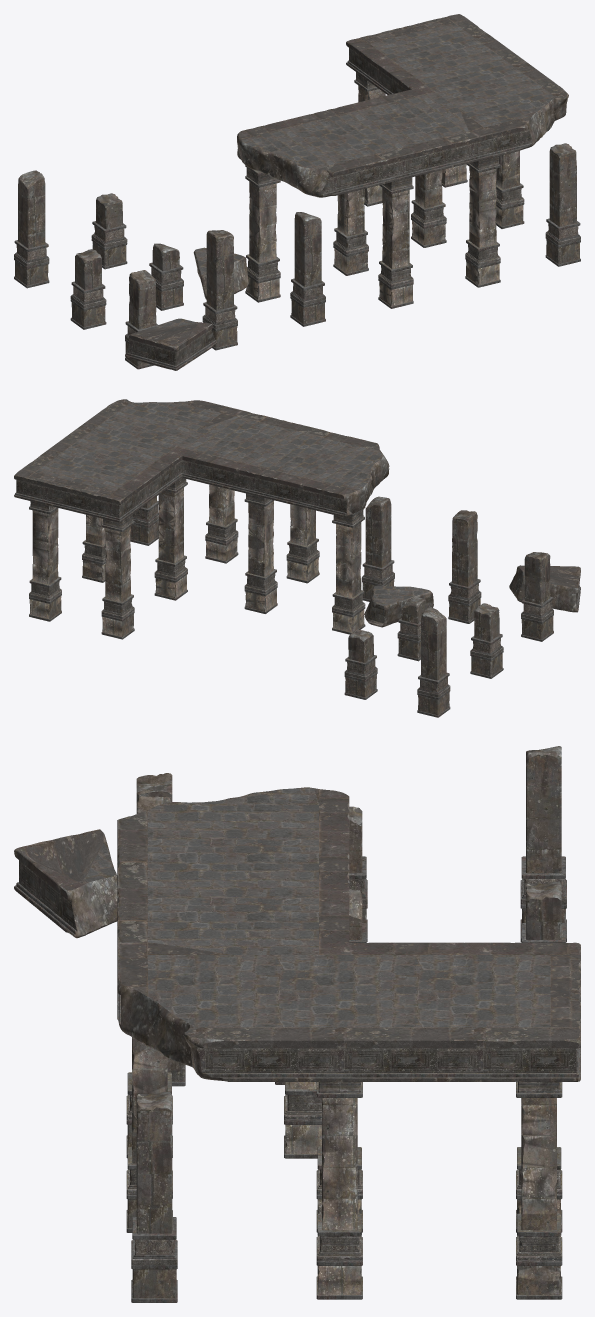
The model's file is cargo_ruin_a.glb.
The picture shows the model from 3 angles, top to bottom: view 1: azimuth 30°, elevation 25°; view 2: azimuth 150°, elevation 25°; view 3: azimuth 270°, elevation 25°; orthographic projection. The views are drawn at different scales.
Visible parts, largest first — view 1: KB3D_SOL_AssemblyRuin_A_Top_A, KB3D_SOL_PropRuinColumn_B.001, KB3D_SOL_PropRuinColumn_A, KB3D_SOL_PropRuinColumn_C, KB3D_SOL_AssemblyRuin_A_Pillar_I, KB3D_SOL_AssemblyRuin_A_Pillar_G, KB3D_SOL_AssemblyRuin_A_Pillar_A, KB3D_SOL_AssemblyRuin_A_Pillar_J, KB3D_SOL_AssemblyRuin_A_Pillar_B, KB3D_SOL_PropRuinColumn_B, KB3D_SOL_AssemblyRuin_A_Pillar_E, KB3D_SOL_PropRuinColumn_A.001 (+7 smaller); view 2: KB3D_SOL_AssemblyRuin_A_Top_A, KB3D_SOL_PropRuinColumn_B.001, KB3D_SOL_PropRuinColumn_A.002, KB3D_SOL_PropRuinColumn_C.002, KB3D_SOL_PropRuinColumn_B, KB3D_SOL_PropRuinColumn_A.001, KB3D_SOL_AssemblyRuin_A_Pillar_B, KB3D_SOL_AssemblyRuin_A_Pillar_G, KB3D_SOL_AssemblyRuin_A_Pillar_A, KB3D_SOL_AssemblyRuin_A_Pillar_C, KB3D_SOL_PropRuinColumn_A, KB3D_SOL_PropRuinColumn_C (+7 smaller); view 3: KB3D_SOL_AssemblyRuin_A_Top_A, KB3D_SOL_PropRuinColumn_C.001, KB3D_SOL_PropRuinColumn_C.002, KB3D_SOL_AssemblyRuin_A_Pillar_I, KB3D_SOL_AssemblyRuin_A_Pillar_J, KB3D_SOL_AssemblyRuin_A_Pillar_G, KB3D_SOL_PropRuinColumn_C, KB3D_SOL_PropRuinColumn_B, KB3D_SOL_AssemblyRuin_A_Pillar_H, KB3D_SOL_AssemblyRuin_A_Pillar_E, KB3D_SOL_AssemblyRuin_A_Pillar_C, KB3D_SOL_AssemblyRuin_A_Pillar_F (+2 smaller).
Boxes of the visible parts, x1,y1,x2,y2 form: KB3D_SOL_AssemblyRuin_A_Top_A: (237,14,568,197); KB3D_SOL_PropRuinColumn_B.001: (245,165,280,302); KB3D_SOL_PropRuinColumn_A: (378,177,413,308); KB3D_SOL_PropRuinColumn_C: (465,156,500,287); KB3D_SOL_AssemblyRuin_A_Pillar_I: (545,143,580,266); KB3D_SOL_AssemblyRuin_A_Pillar_G: (14,170,49,288); KB3D_SOL_AssemblyRuin_A_Pillar_A: (290,212,325,326); KB3D_SOL_AssemblyRuin_A_Pillar_J: (125,318,216,370); KB3D_SOL_AssemblyRuin_A_Pillar_B: (202,230,237,350); KB3D_SOL_PropRuinColumn_B: (333,189,368,275); KB3D_SOL_AssemblyRuin_A_Pillar_E: (70,249,106,329); KB3D_SOL_PropRuinColumn_A.001: (411,170,446,247); KB3D_SOL_AssemblyRuin_A_Top_A: (14,399,389,522); KB3D_SOL_PropRuinColumn_B.001: (332,506,365,634); KB3D_SOL_PropRuinColumn_A.002: (101,514,134,639); KB3D_SOL_PropRuinColumn_C.002: (29,501,61,621); KB3D_SOL_PropRuinColumn_B: (244,493,277,613); KB3D_SOL_PropRuinColumn_A.001: (154,478,187,600); KB3D_SOL_AssemblyRuin_A_Pillar_B: (448,510,481,623); KB3D_SOL_AssemblyRuin_A_Pillar_G: (417,607,450,717); KB3D_SOL_AssemblyRuin_A_Pillar_A: (362,496,394,601); KB3D_SOL_AssemblyRuin_A_Pillar_C: (521,552,553,641); KB3D_SOL_PropRuinColumn_A: (286,504,319,583); KB3D_SOL_PropRuinColumn_C: (205,484,238,563); KB3D_SOL_AssemblyRuin_A_Top_A: (117,787,580,1081); KB3D_SOL_PropRuinColumn_C.001: (316,1082,362,1299); KB3D_SOL_PropRuinColumn_C.002: (516,1081,562,1299); KB3D_SOL_AssemblyRuin_A_Pillar_I: (131,1092,177,1302); KB3D_SOL_AssemblyRuin_A_Pillar_J: (14,829,117,938); KB3D_SOL_AssemblyRuin_A_Pillar_G: (520,746,566,942); KB3D_SOL_PropRuinColumn_C: (126,1037,172,1232); KB3D_SOL_PropRuinColumn_B: (284,1082,321,1158); KB3D_SOL_AssemblyRuin_A_Pillar_H: (521,881,565,942); KB3D_SOL_AssemblyRuin_A_Pillar_E: (349,806,367,941); KB3D_SOL_AssemblyRuin_A_Pillar_C: (136,773,172,801); KB3D_SOL_AssemblyRuin_A_Pillar_F: (349,888,366,942).
Bounding box in the file's own units: 15 × 4.75 × 8.93.
Materials: 6 (6 with a texture image).
